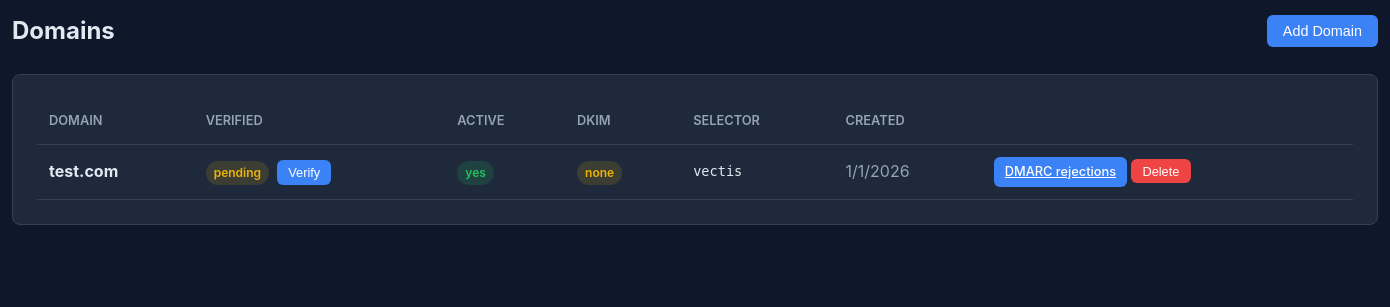
Test: DomainsPage › verifies domain and shows success
Click the button "Verify" at (304,172), box [277,160,331,185]
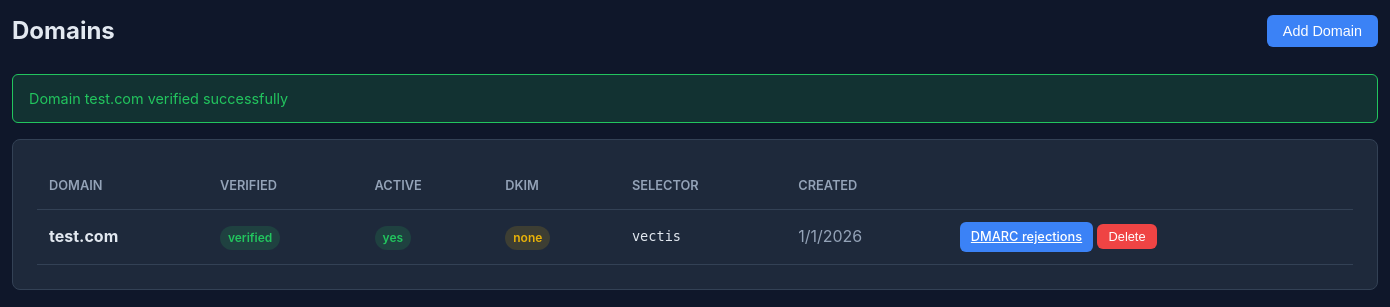
Expected: the text "Domain test.com verified successfully" is shown, [12,74,1378,123]
